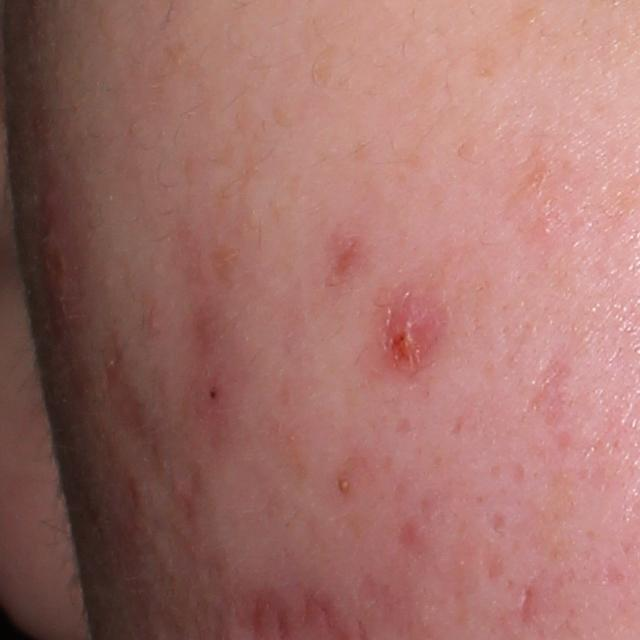atrophic_scar: (117, 369, 160, 455), (529, 354, 575, 429), (514, 590, 543, 625), (484, 546, 505, 580), (487, 510, 506, 535)
